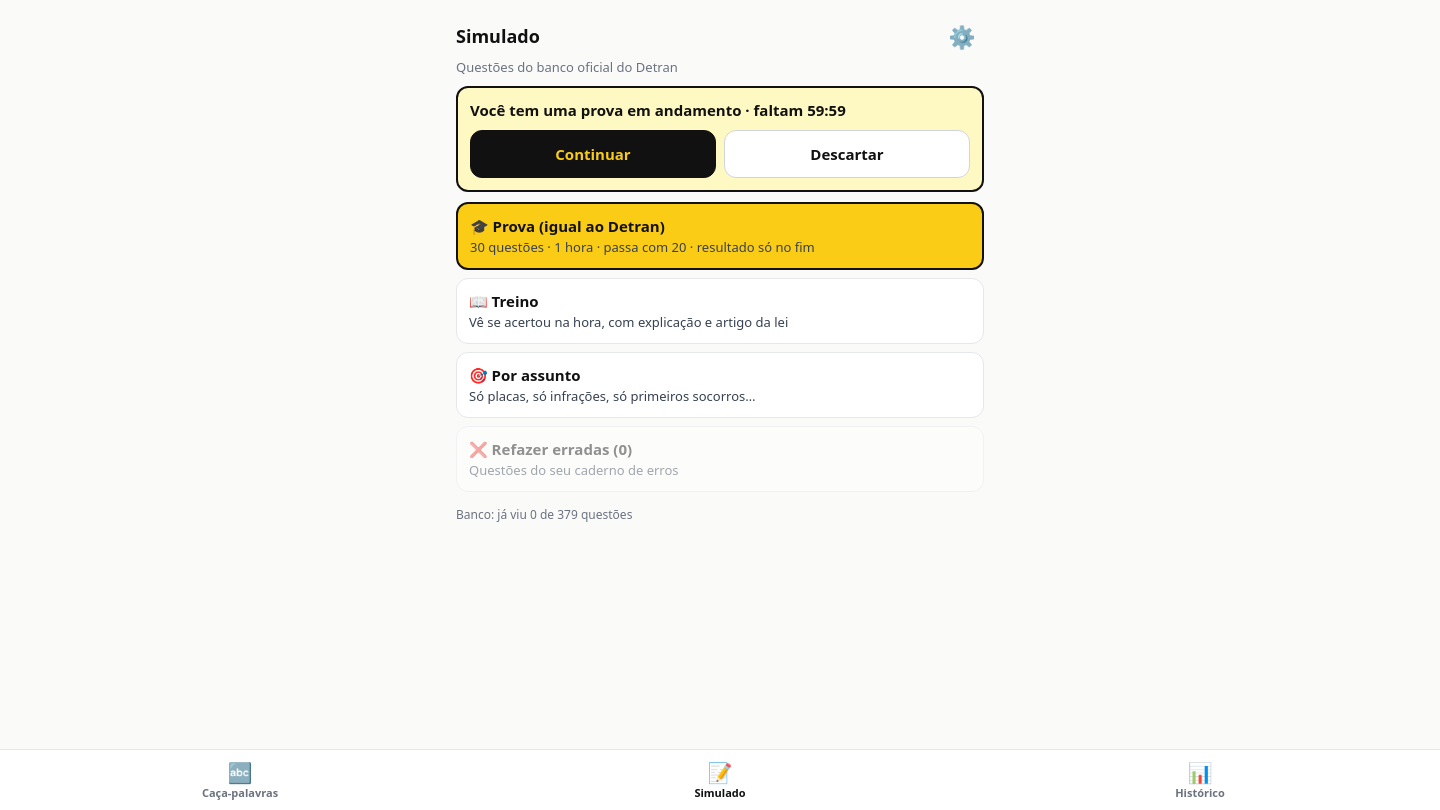
com prova em andamento mostra o cartão e pede confirmação para descartar
Check: the text "Você tem uma prova em andamento · faltam 59:59" is shown, box [470,100,846,120]
Click the button "Descartar" at (847, 154), box [724,130,970,178]
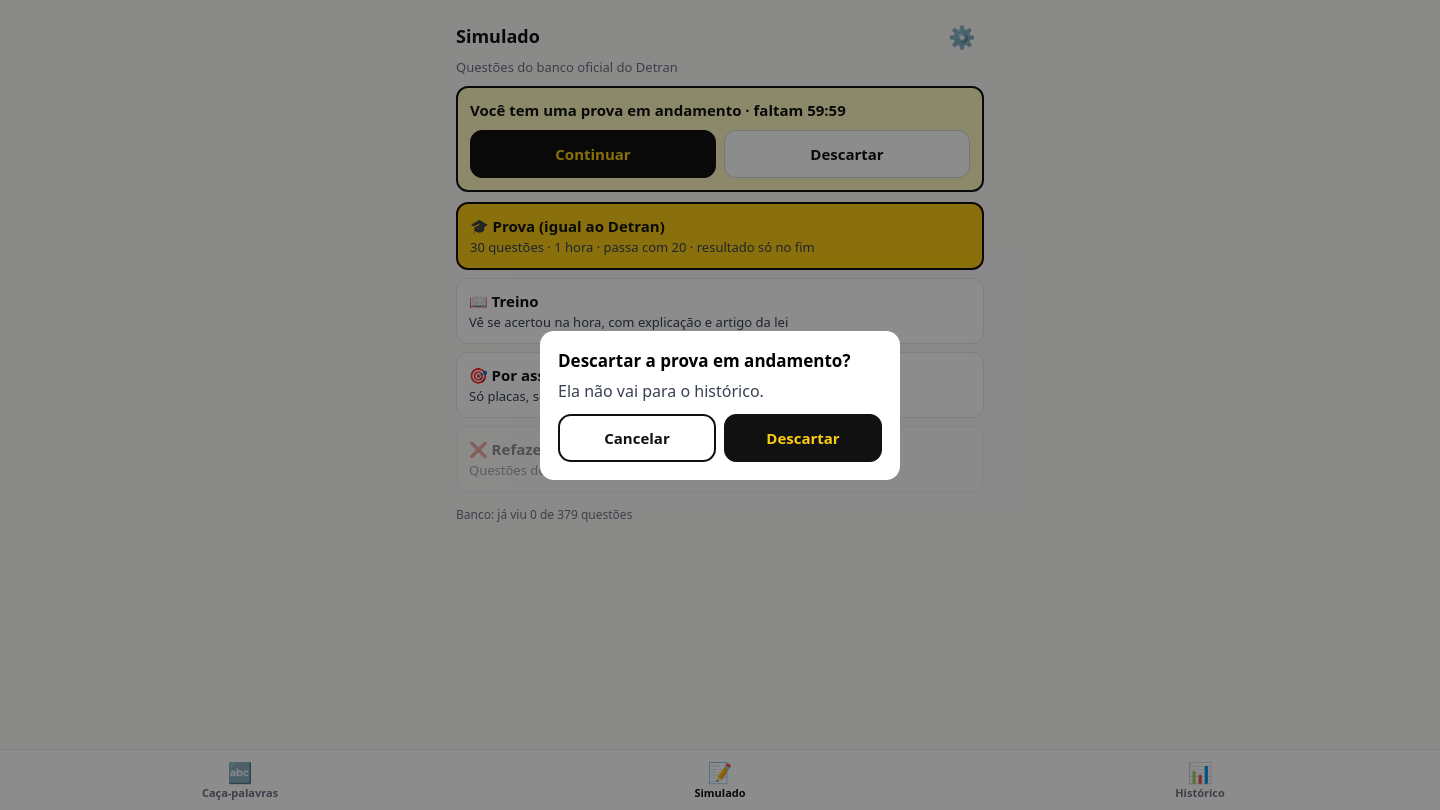
Check: the heading "Descartar a prova em andamento?" is shown, box [558,348,882,372]
Check: the text "Ela não vai para o histórico." is shown, box [558,380,764,402]
Click the button "Descartar" at (803, 438), box [724,414,882,462]
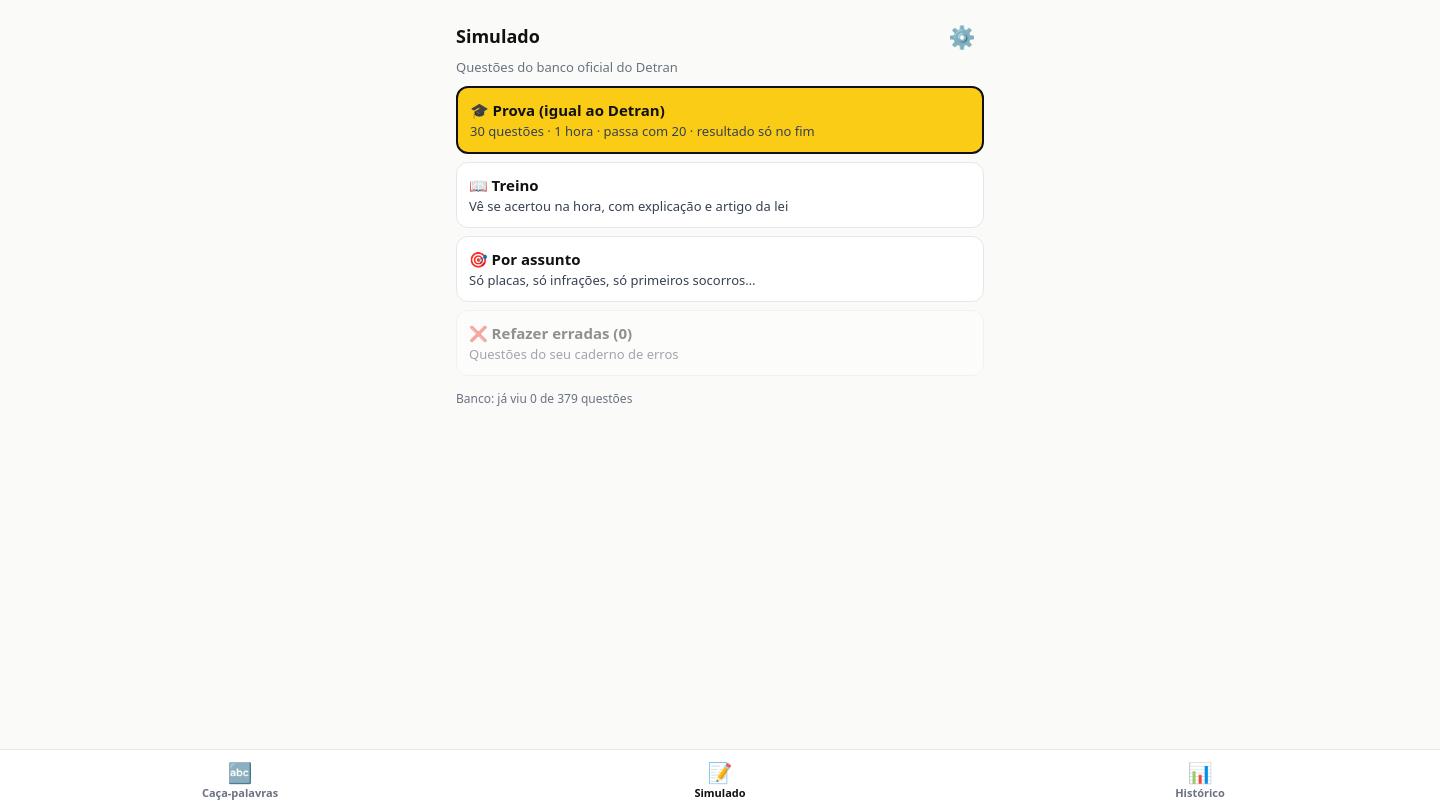
Check: the text "Banco: já viu 0 de 379 questões" is shown, box [456,390,632,407]
Check: the text "em andamento" is gone
